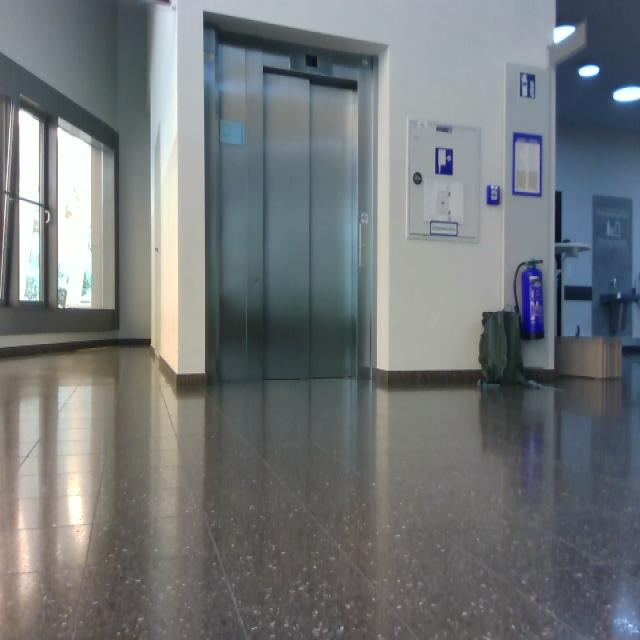backpack: (479, 310, 539, 386)
carton: (556, 337, 622, 380)
door: (206, 29, 377, 381)
fire extinguisher: (514, 260, 544, 340)
light bulb: (613, 86, 640, 104), (554, 25, 576, 44), (579, 65, 600, 78)
tiled floor: (1, 349, 640, 640)
window: (1, 97, 115, 310)
